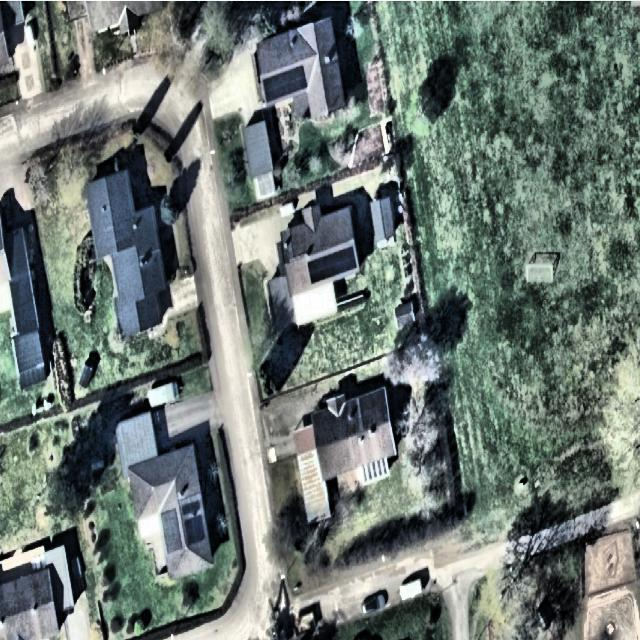roof_pv: (255, 62, 314, 105), (305, 248, 360, 282), (158, 502, 182, 558), (185, 516, 211, 548)
